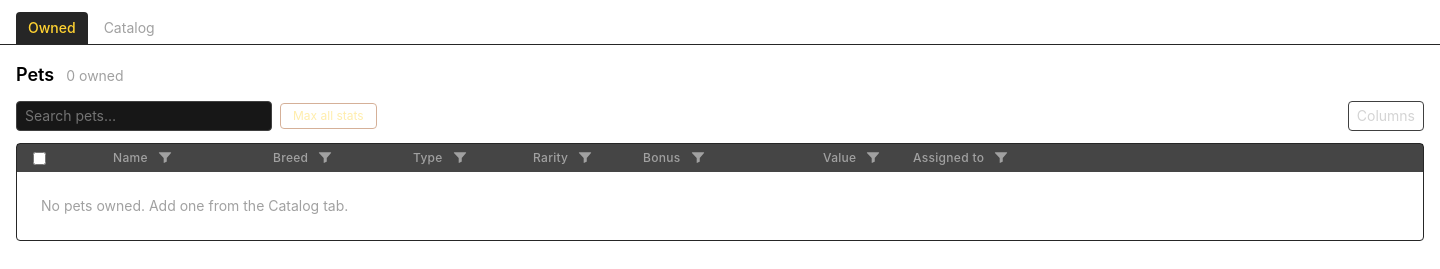
it: PetsView - Catalog tab › the Owned tab is shown first; the Catalog tab reveals the full breed catalog
Expected: the text "0 owned" is shown, [66,66,124,86]
Expected: the text "Dogmeat" is not shown
Click the tab "Catalog" at coordinates (129, 28), box [92,12,167,44]
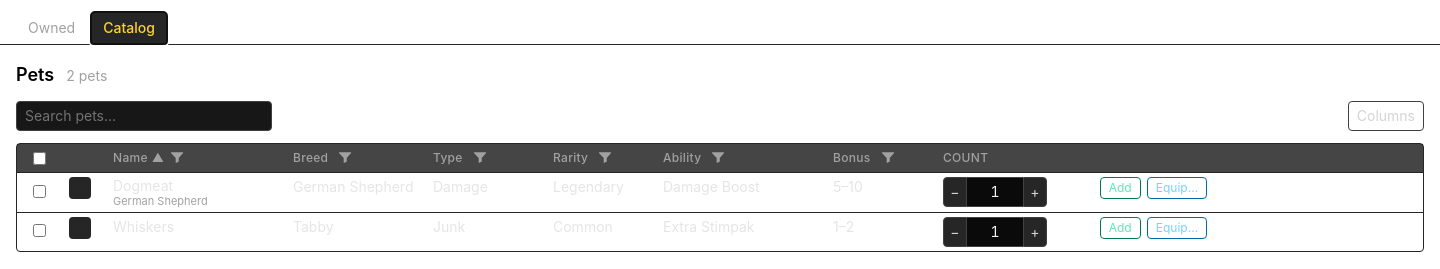
Now the text "Dogmeat" is shown, box [113,177,173,194]
Now the text "Whiskers" is shown, box [113,218,174,235]
Now the text "2 pets" is shown, box [66,66,107,86]
